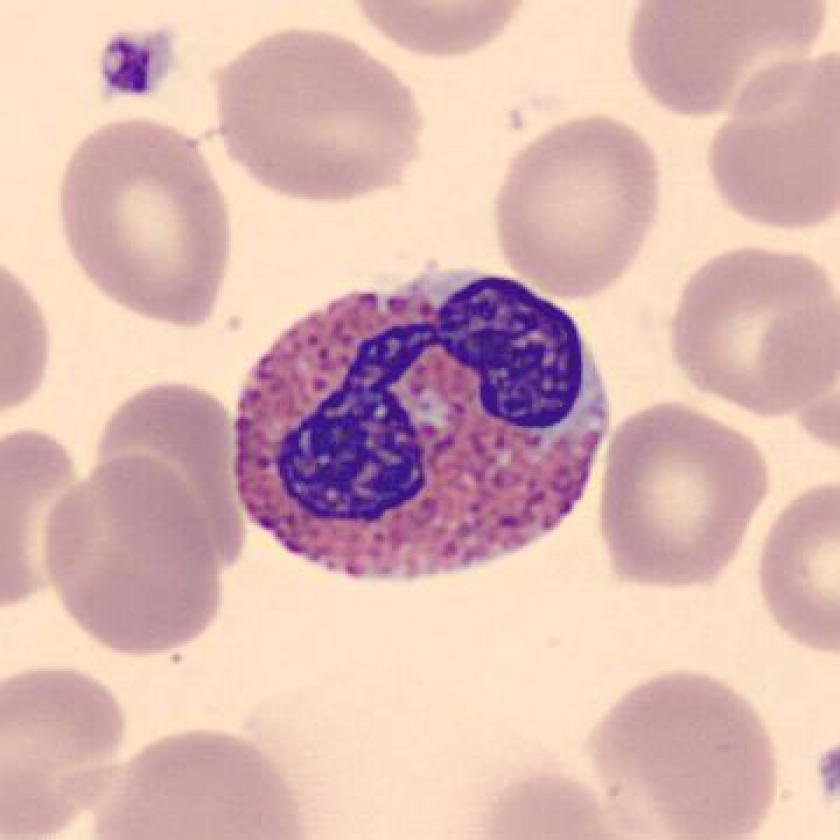eosinophil: (223, 251, 629, 596)
